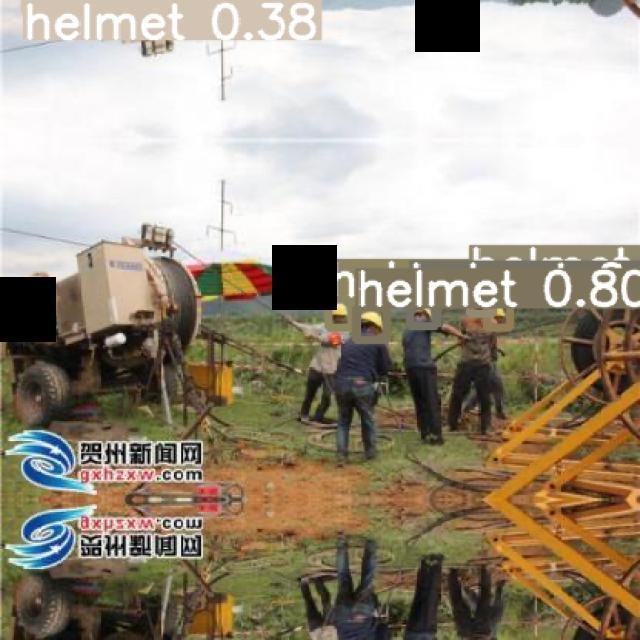yellow helmet: (357, 309, 385, 335), (491, 307, 510, 327), (333, 305, 349, 321)
